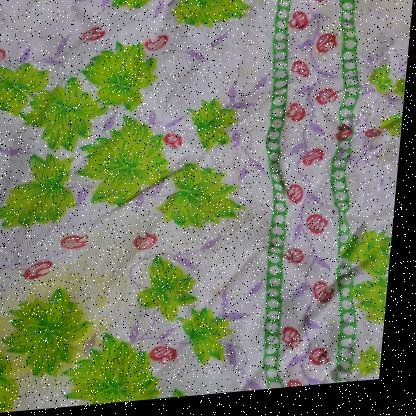spot: (0, 245, 158, 409), (291, 0, 412, 74), (211, 290, 243, 310)
